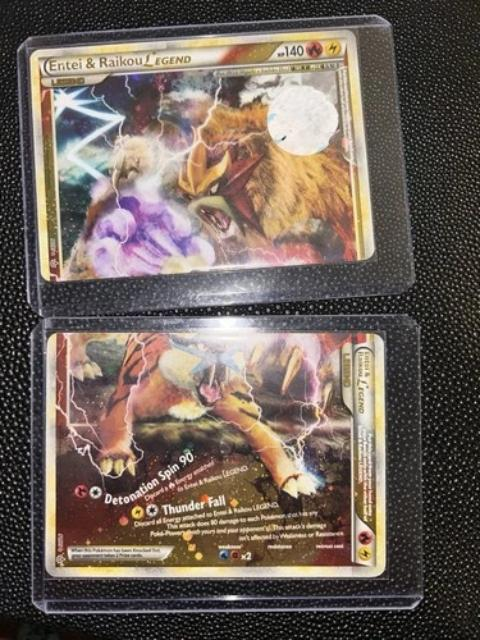Card: (27, 28, 378, 287), (42, 331, 389, 580)
Name: (43, 48, 197, 78), (353, 347, 377, 421)
